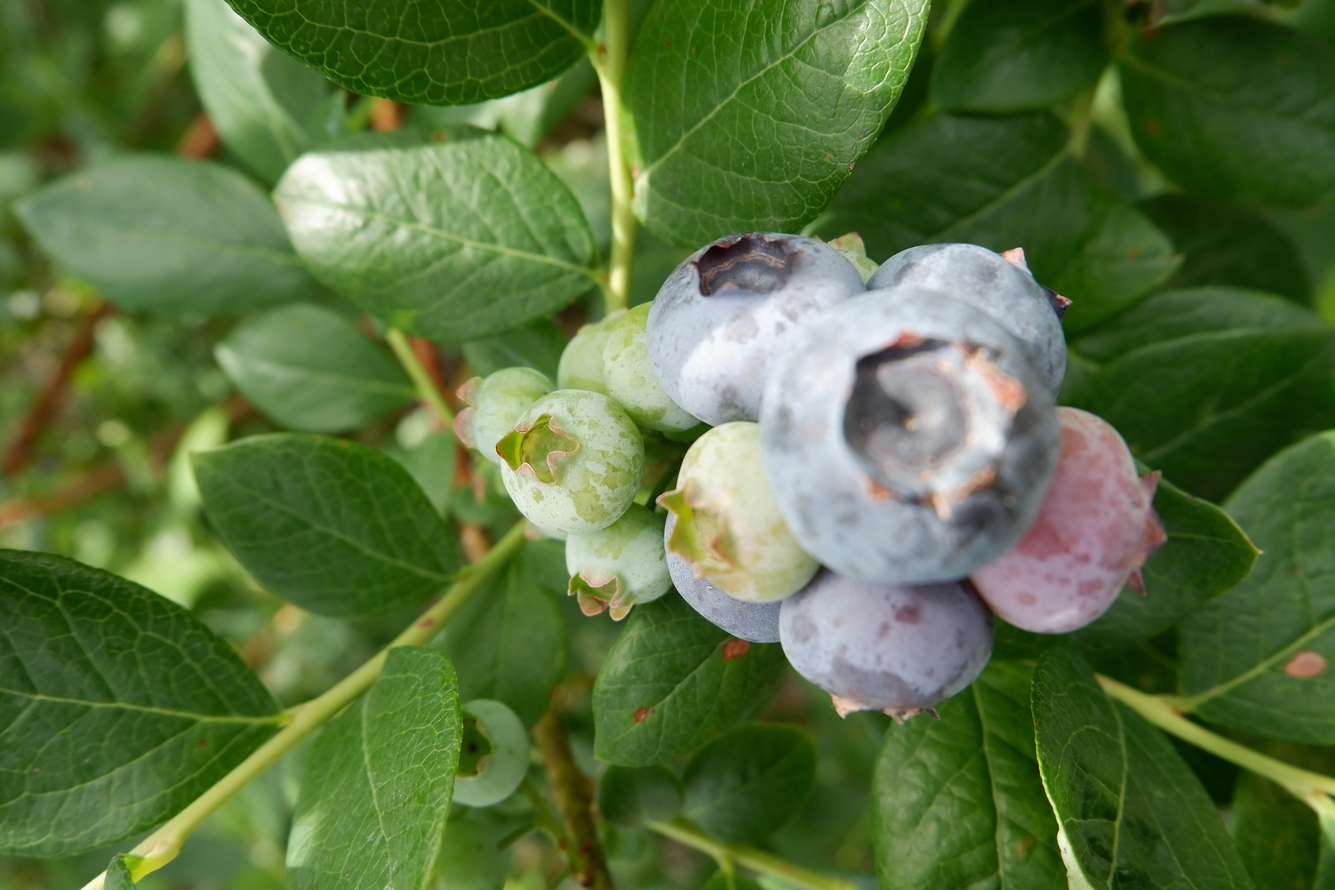Immature: (977, 412, 1162, 626), (666, 426, 816, 598), (499, 391, 641, 534), (603, 307, 698, 431), (567, 506, 666, 614), (456, 369, 549, 459), (635, 430, 684, 510), (558, 323, 606, 391), (826, 233, 874, 278)
Mature: (770, 292, 1063, 588), (653, 236, 863, 420), (786, 571, 989, 717), (875, 245, 1058, 380), (667, 545, 784, 642)
